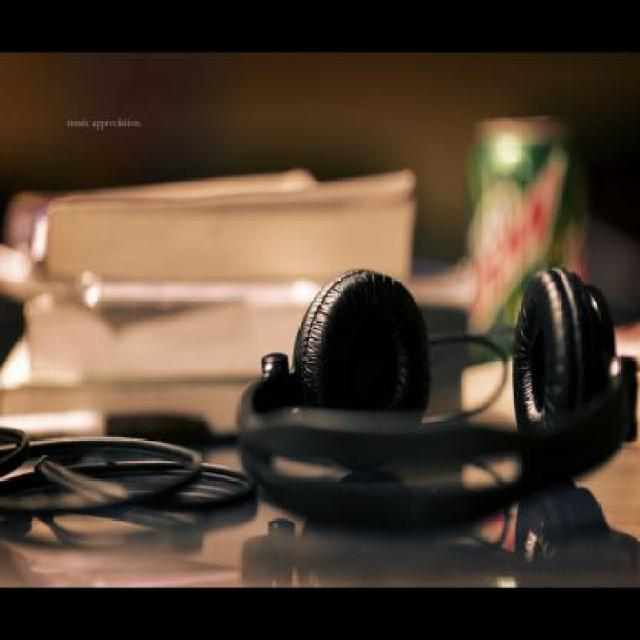earphone: (233, 260, 637, 535)
